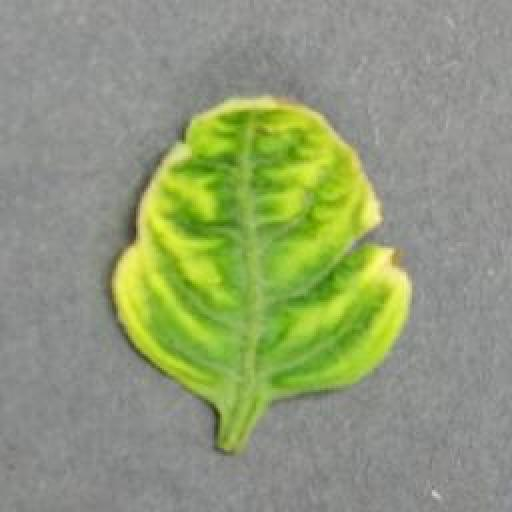disease_tomato: (112, 92, 410, 403)
